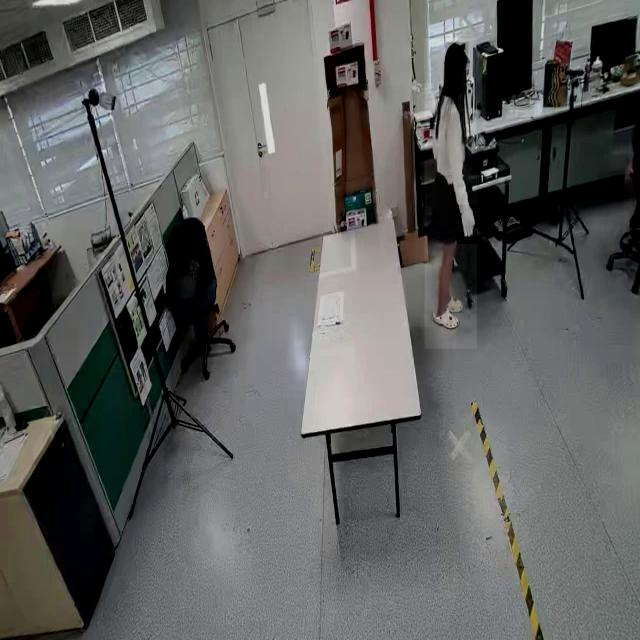hand_glove: (457, 204, 477, 244)
head_nohelmet: (445, 42, 469, 64)
person: (424, 38, 477, 350)
